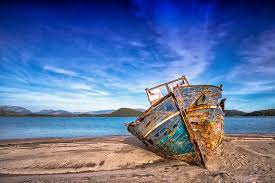boat: (126, 74, 228, 169)
